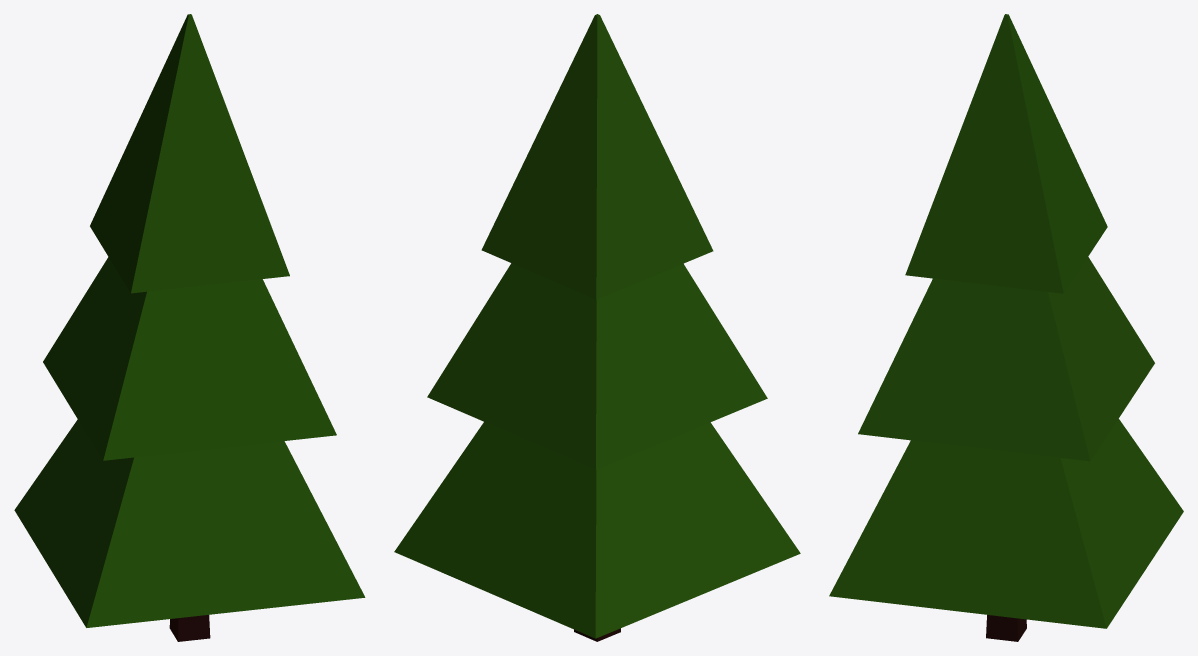
Rendered from tree7.obj.
3 renders of one model, left to right at view 1: azimuth 30°, elevation 25°; view 2: azimuth 150°, elevation 25°; view 3: azimuth 270°, elevation 25°, orthographic.
Visible parts, largest first — view 1: Cube.006_Cube.014, Cube.006_Cube.000; view 2: Cube.006_Cube.014; view 3: Cube.006_Cube.014, Cube.006_Cube.000.
Part boxes in pixels (box(x1,y1,x2,y2)): Cube.006_Cube.014: box(14, 14, 365, 627); Cube.006_Cube.000: box(169, 615, 210, 641); Cube.006_Cube.014: box(394, 14, 800, 638); Cube.006_Cube.014: box(829, 14, 1183, 628); Cube.006_Cube.000: box(986, 615, 1026, 641).
Size of the model in its own units: 3.16 by 6.08 by 3.16.
